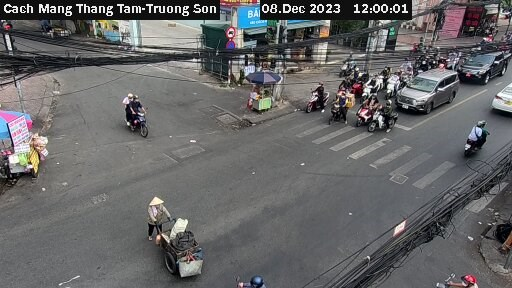car: (398, 66, 459, 114), (460, 47, 505, 80), (490, 77, 512, 114)
motorbike: (102, 88, 168, 143), (459, 118, 492, 152), (299, 82, 329, 112), (325, 92, 351, 121), (370, 102, 393, 128), (350, 95, 367, 119), (364, 74, 383, 94), (380, 74, 402, 90), (333, 55, 354, 69)
